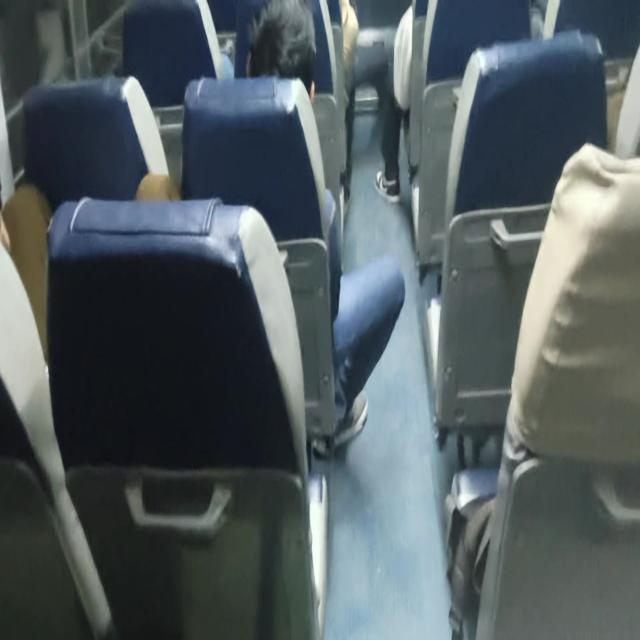person: (239, 0, 317, 105)
